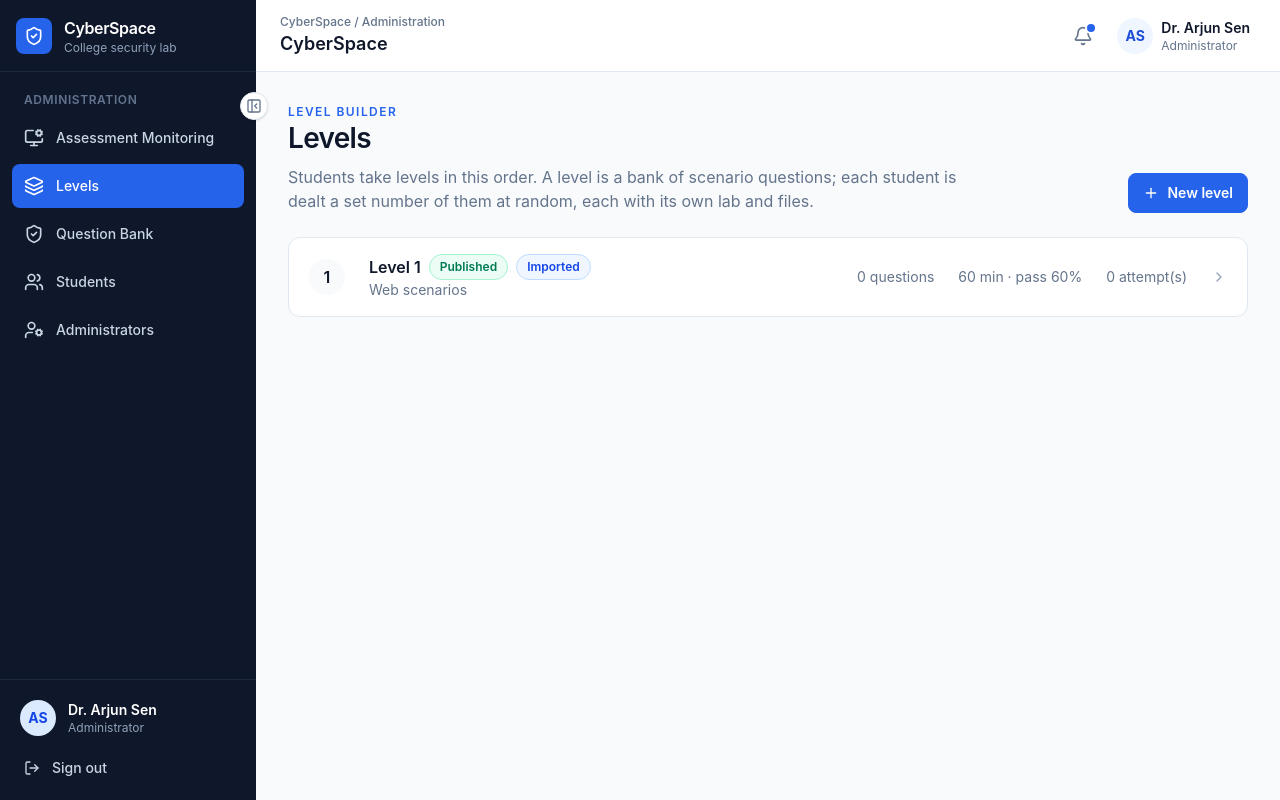
Scenario: level builder › creates a level and opens it
Expected: the text "Imported" is shown, [516, 254, 591, 280]
Click the button "New level" at (1188, 193), box [1128, 173, 1248, 213]
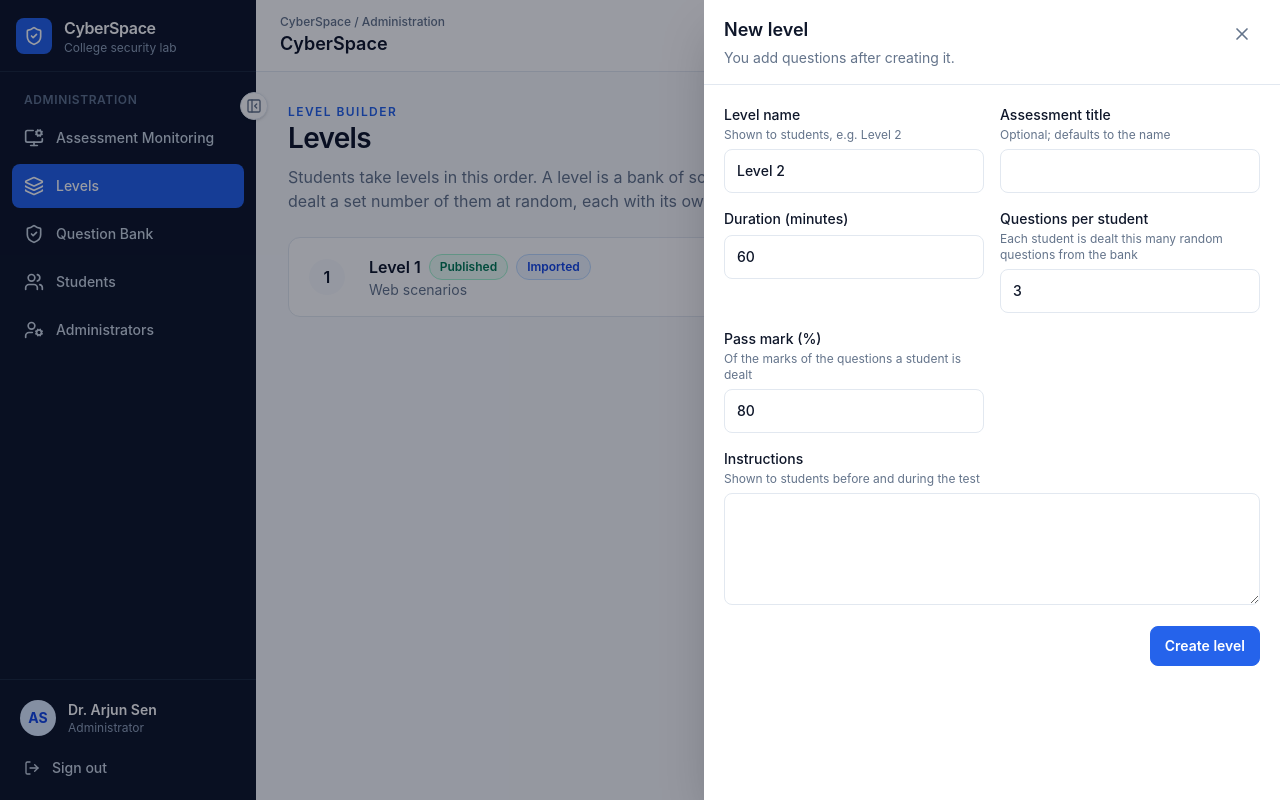
Now the field labelled "Level name Shown to students, e.g. Level 2" holds "Level 2", box [724, 149, 984, 193]
Replace the text in the number field labelled "Questions per student" with "2" at (1130, 291), box [1000, 269, 1260, 313]
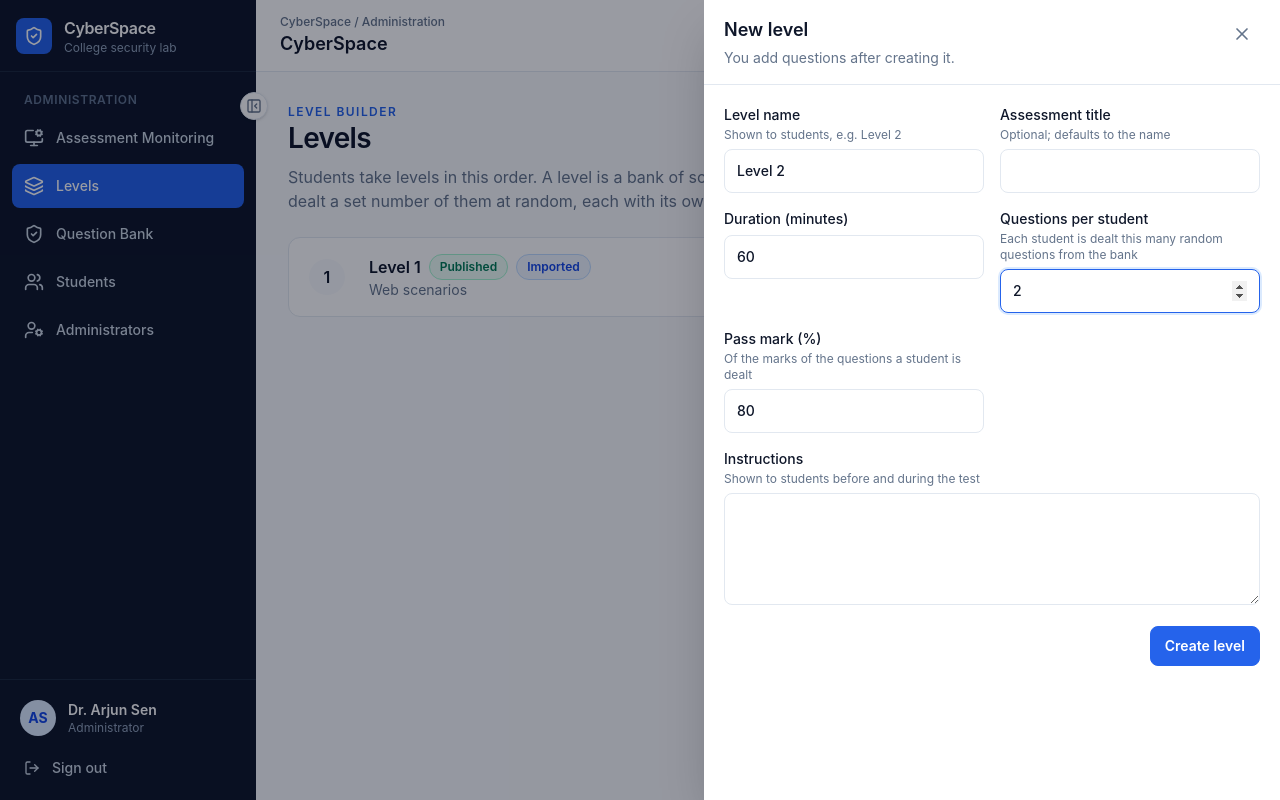
Click the button "Create level" at (1205, 646), box [1150, 626, 1260, 666]
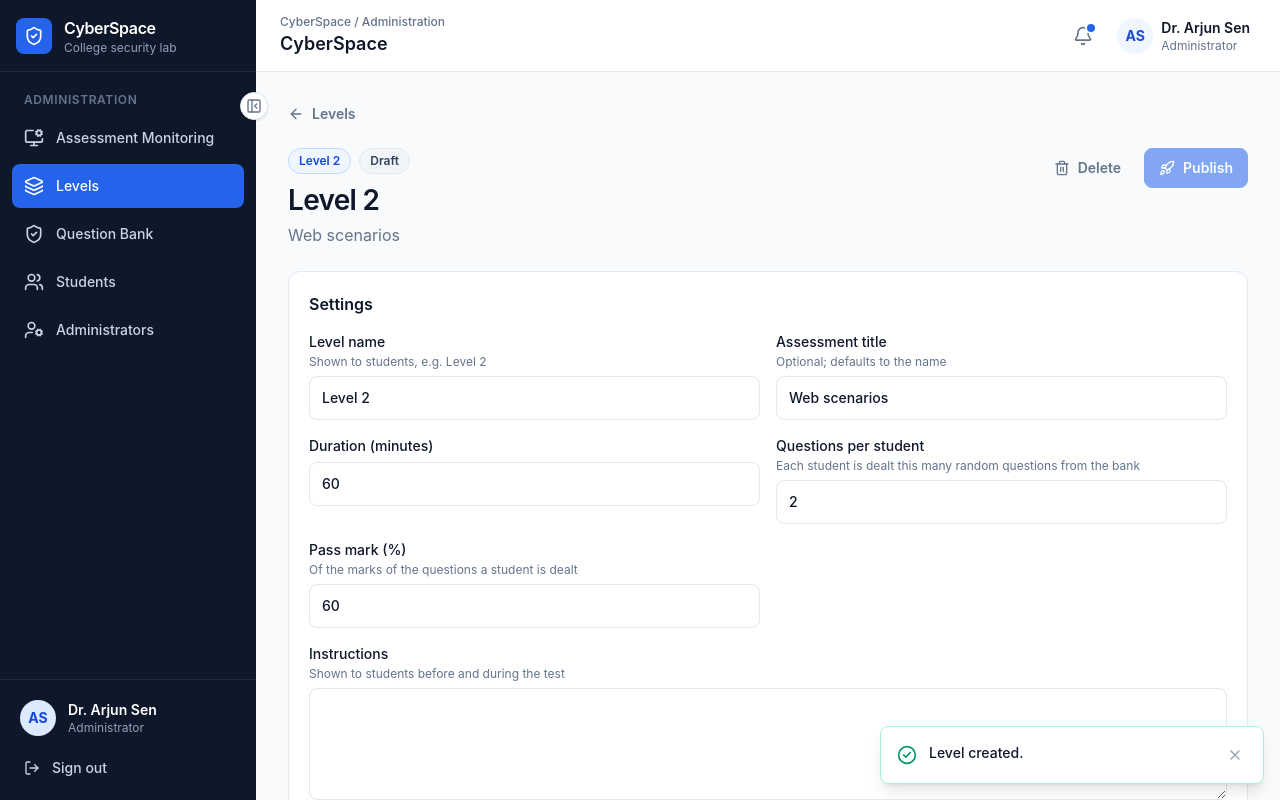
Now the heading "Level 2" is shown, box [288, 183, 379, 217]
